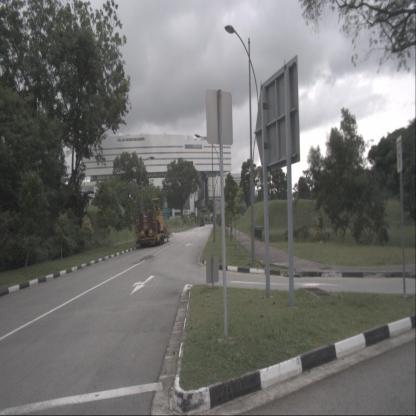vehicle-truck: (200, 217, 205, 226)
